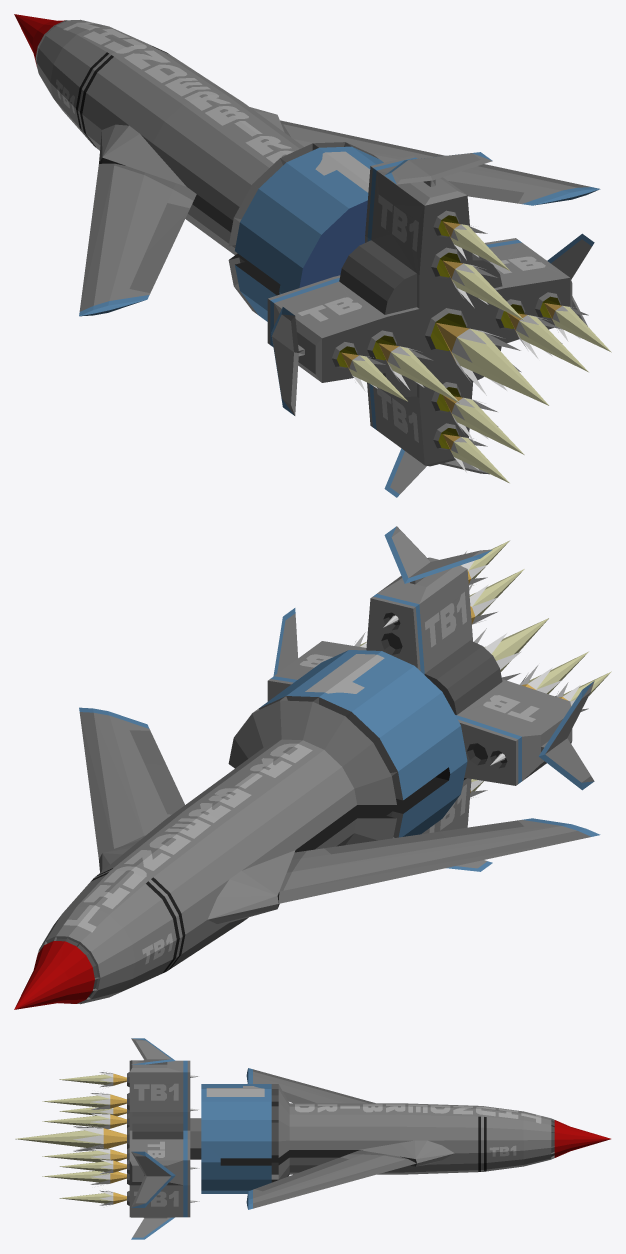
The picture shows the model from 3 angles, top to bottom: view 1: azimuth 30°, elevation 25°; view 2: azimuth 150°, elevation 25°; view 3: azimuth 270°, elevation 25°; orthographic projection. The views are drawn at different scales.
Parts seen in each view (by area): view 1: ShapeIndexedFaceSet.001_ShapeIndexedFaceSet.002, ShapeIndexedFaceSet.027_ShapeIndexedFaceSet.028, ShapeIndexedFaceSet.024_ShapeIndexedFaceSet.025, ShapeIndexedFaceSet.023_ShapeIndexedFaceSet.024, ShapeIndexedFaceSet.068_ShapeIndexedFaceSet.069, ShapeIndexedFaceSet.002_ShapeIndexedFaceSet.003, ShapeIndexedFaceSet.082_ShapeIndexedFaceSet.083, ShapeIndexedFaceSet.009_ShapeIndexedFaceSet.010, ShapeIndexedFaceSet.025_ShapeIndexedFaceSet.026, ShapeIndexedFaceSet.069_ShapeIndexedFaceSet.070, ShapeIndexedFaceSet.004_ShapeIndexedFaceSet.005, ShapeIndexedFaceSet.030_ShapeIndexedFaceSet.031 (+20 smaller); view 2: ShapeIndexedFaceSet.001_ShapeIndexedFaceSet.002, ShapeIndexedFaceSet.024_ShapeIndexedFaceSet.025, ShapeIndexedFaceSet.023_ShapeIndexedFaceSet.024, ShapeIndexedFaceSet.021_ShapeIndexedFaceSet.022, ShapeIndexedFaceSet.068_ShapeIndexedFaceSet.069, ShapeIndexedFaceSet.082_ShapeIndexedFaceSet.083, ShapeIndexedFaceSet.002_ShapeIndexedFaceSet.003, ShapeIndexedFaceSet.004_ShapeIndexedFaceSet.005, ShapeIndexedFaceSet.069_ShapeIndexedFaceSet.070, ShapeIndexedFaceSet_ShapeIndexedFaceSet.001, ShapeIndexedFaceSet.027_ShapeIndexedFaceSet.028, ShapeIndexedFaceSet.083_ShapeIndexedFaceSet.084 (+19 smaller); view 3: ShapeIndexedFaceSet.001_ShapeIndexedFaceSet.002, ShapeIndexedFaceSet.023_ShapeIndexedFaceSet.024, ShapeIndexedFaceSet.024_ShapeIndexedFaceSet.025, ShapeIndexedFaceSet.082_ShapeIndexedFaceSet.083, ShapeIndexedFaceSet.002_ShapeIndexedFaceSet.003, ShapeIndexedFaceSet.027_ShapeIndexedFaceSet.028, ShapeIndexedFaceSet.004_ShapeIndexedFaceSet.005, ShapeIndexedFaceSet.083_ShapeIndexedFaceSet.084, ShapeIndexedFaceSet.068_ShapeIndexedFaceSet.069, ShapeIndexedFaceSet.005_ShapeIndexedFaceSet.006, ShapeIndexedFaceSet_ShapeIndexedFaceSet.001, ShapeIndexedFaceSet.025_ShapeIndexedFaceSet.026 (+21 smaller).
Boxes of the visible parts, x1,y1,x2,y2 form: ShapeIndexedFaceSet.001_ShapeIndexedFaceSet.002: (36,19,303,254); ShapeIndexedFaceSet.027_ShapeIndexedFaceSet.028: (322,195,570,465); ShapeIndexedFaceSet.024_ShapeIndexedFaceSet.025: (267,155,572,466); ShapeIndexedFaceSet.023_ShapeIndexedFaceSet.024: (235,146,383,321); ShapeIndexedFaceSet.068_ShapeIndexedFaceSet.069: (93,165,193,305); ShapeIndexedFaceSet.002_ShapeIndexedFaceSet.003: (56,22,293,163); ShapeIndexedFaceSet.082_ShapeIndexedFaceSet.083: (283,124,576,203); ShapeIndexedFaceSet.009_ShapeIndexedFaceSet.010: (299,200,367,287); ShapeIndexedFaceSet.025_ShapeIndexedFaceSet.026: (298,194,545,442); ShapeIndexedFaceSet.069_ShapeIndexedFaceSet.070: (79,163,196,311); ShapeIndexedFaceSet.004_ShapeIndexedFaceSet.005: (99,107,284,186); ShapeIndexedFaceSet.030_ShapeIndexedFaceSet.031: (337,215,560,449); ShapeIndexedFaceSet.001_ShapeIndexedFaceSet.002: (39,739,357,1003); ShapeIndexedFaceSet.024_ShapeIndexedFaceSet.025: (267,557,572,833); ShapeIndexedFaceSet.023_ShapeIndexedFaceSet.024: (259,650,467,837); ShapeIndexedFaceSet.021_ShapeIndexedFaceSet.022: (228,700,396,844); ShapeIndexedFaceSet.068_ShapeIndexedFaceSet.069: (283,820,576,890); ShapeIndexedFaceSet.082_ShapeIndexedFaceSet.083: (94,713,171,848); ShapeIndexedFaceSet.002_ShapeIndexedFaceSet.003: (63,743,312,964); ShapeIndexedFaceSet.004_ShapeIndexedFaceSet.005: (39,840,295,1003); ShapeIndexedFaceSet.069_ShapeIndexedFaceSet.070: (278,831,590,903); ShapeIndexedFaceSet_ShapeIndexedFaceSet.001: (14,941,94,1009); ShapeIndexedFaceSet.027_ShapeIndexedFaceSet.028: (424,640,502,780); ShapeIndexedFaceSet.083_ShapeIndexedFaceSet.084: (79,712,145,859); ShapeIndexedFaceSet.001_ShapeIndexedFaceSet.002: (289,1103,551,1174); ShapeIndexedFaceSet.023_ShapeIndexedFaceSet.024: (201,1084,271,1193); ShapeIndexedFaceSet.024_ShapeIndexedFaceSet.025: (129,1060,190,1217); ShapeIndexedFaceSet.082_ShapeIndexedFaceSet.083: (253,1154,405,1203); ShapeIndexedFaceSet.002_ShapeIndexedFaceSet.003: (295,1104,541,1156); ShapeIndexedFaceSet.027_ShapeIndexedFaceSet.028: (132,1112,183,1139); ShapeIndexedFaceSet.004_ShapeIndexedFaceSet.005: (359,1140,454,1166); ShapeIndexedFaceSet.083_ShapeIndexedFaceSet.084: (253,1150,416,1208); ShapeIndexedFaceSet.068_ShapeIndexedFaceSet.069: (253,1071,367,1103); ShapeIndexedFaceSet.005_ShapeIndexedFaceSet.006: (220,1150,416,1166); ShapeIndexedFaceSet_ShapeIndexedFaceSet.001: (554,1120,610,1157); ShapeIndexedFaceSet.025_ShapeIndexedFaceSet.026: (134,1083,178,1206).
Size of the model in its own units: 244 by 140 by 434.
